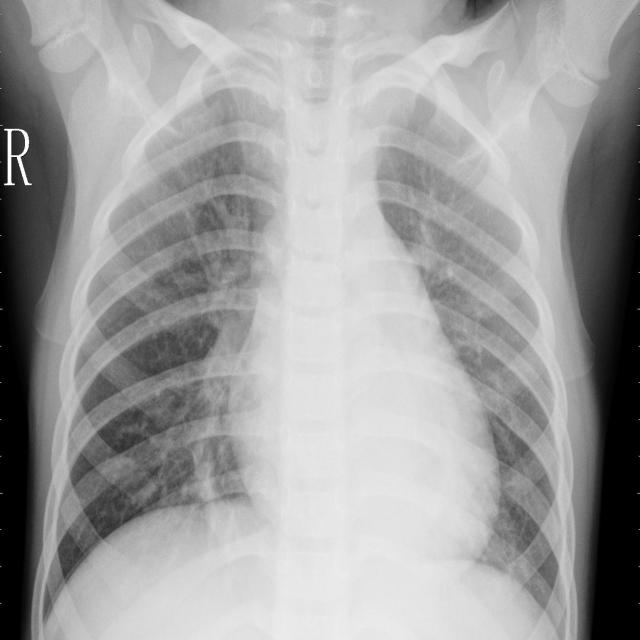low-pneumonia: (192, 220, 261, 489), (414, 191, 493, 351)
